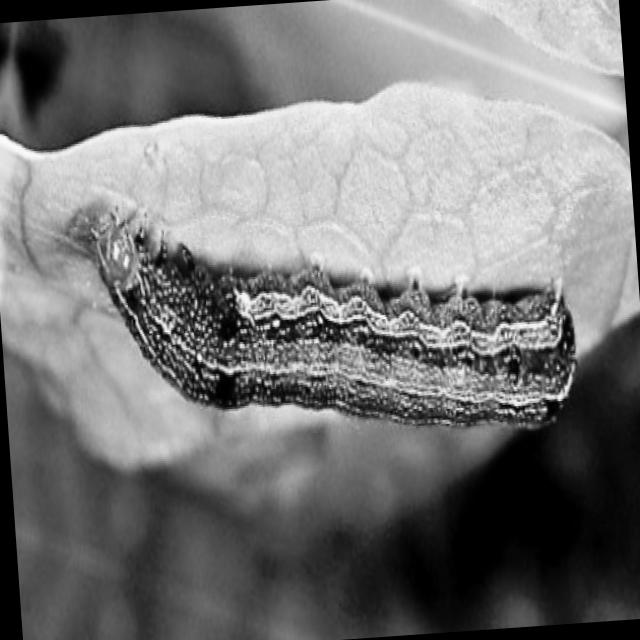Armyworm: (80, 144, 587, 494)
